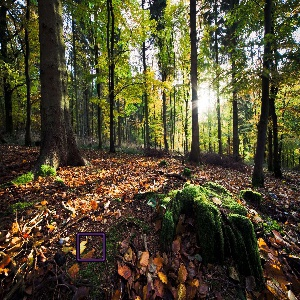square: (73, 231, 109, 263)
